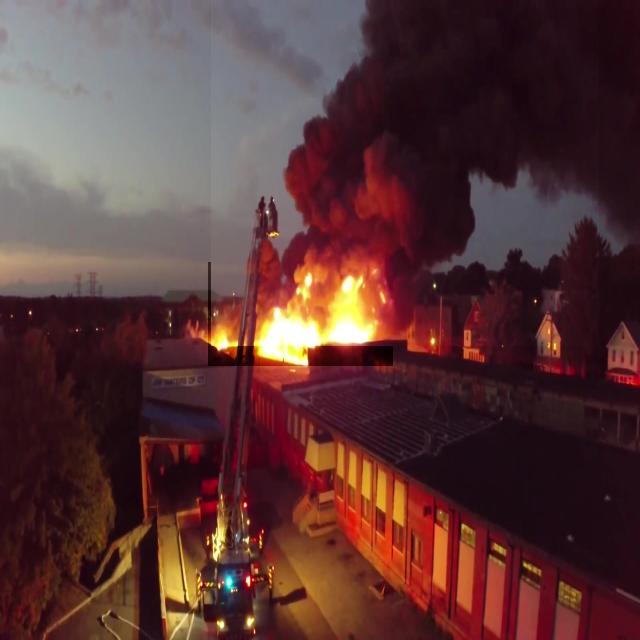Fire: (208, 262, 393, 366)
Smoke: (211, 0, 599, 346)
